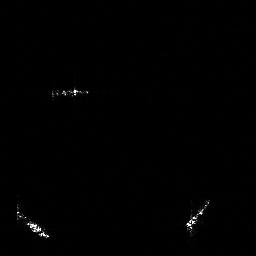ship: (15, 210, 49, 238), (186, 198, 210, 229), (52, 88, 89, 98)
